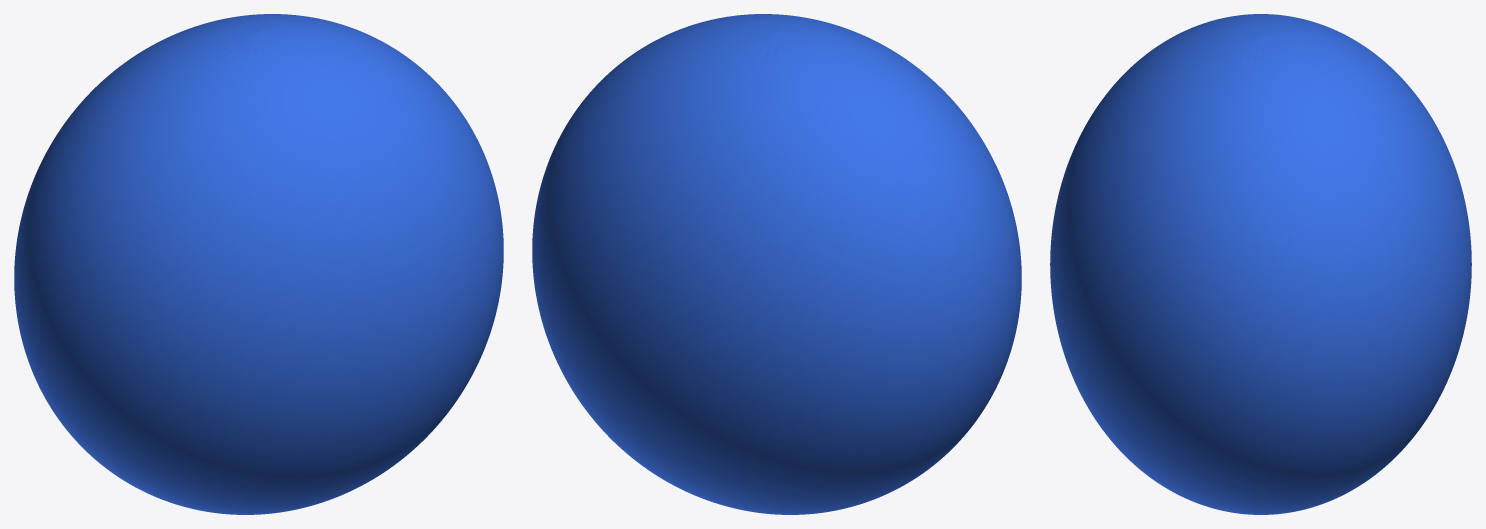
Rendered from plasmaCell(inner).fbx.
The picture shows the model from 3 angles, left to right: view 1: azimuth 30°, elevation 25°; view 2: azimuth 150°, elevation 25°; view 3: azimuth 270°, elevation 25°; orthographic projection.
Parts seen in each view (by area): view 1: Inner; view 2: Inner; view 3: Inner.
Part boxes in pixels (bbox=[...]): Inner: bbox=[14, 14, 503, 514]; Inner: bbox=[532, 14, 1021, 514]; Inner: bbox=[1050, 14, 1471, 514].
Size of the model in its own units: 197 by 200 by 167.
